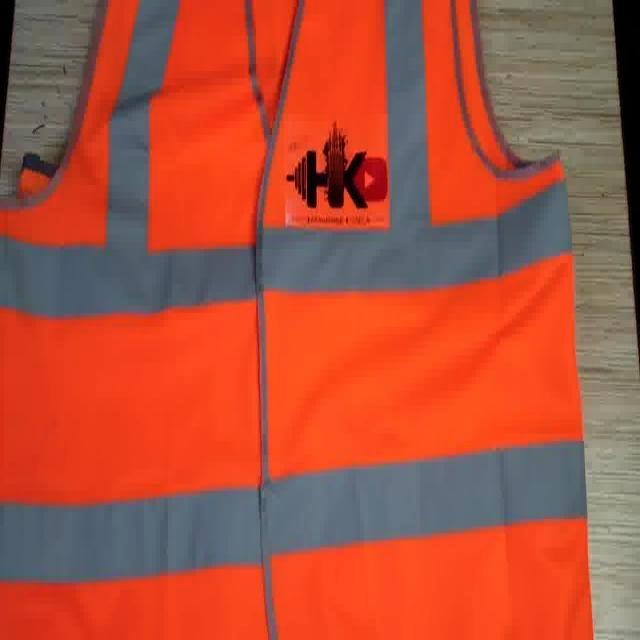Vest: (0, 0, 598, 640)
